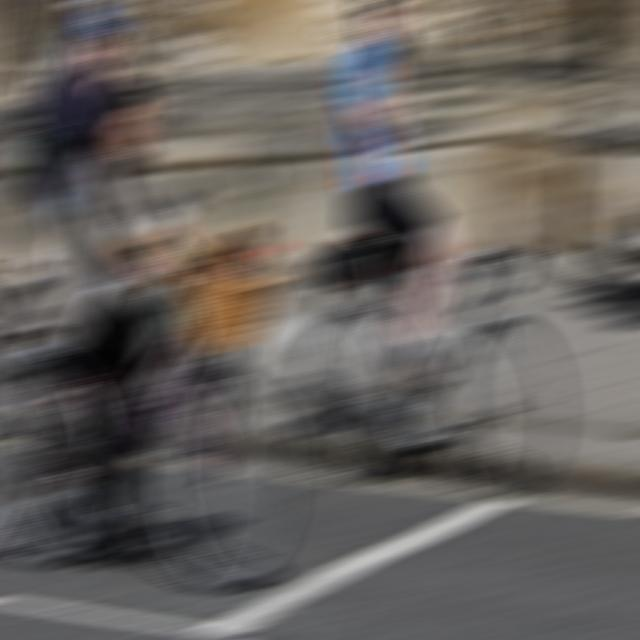With Helmet: (74, 2, 126, 62), (351, 2, 409, 42)
Without Helmet: (94, 65, 151, 158)
